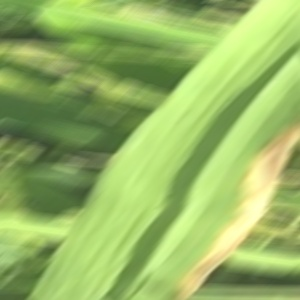Leaf_Blast: (114, 15, 294, 299)
